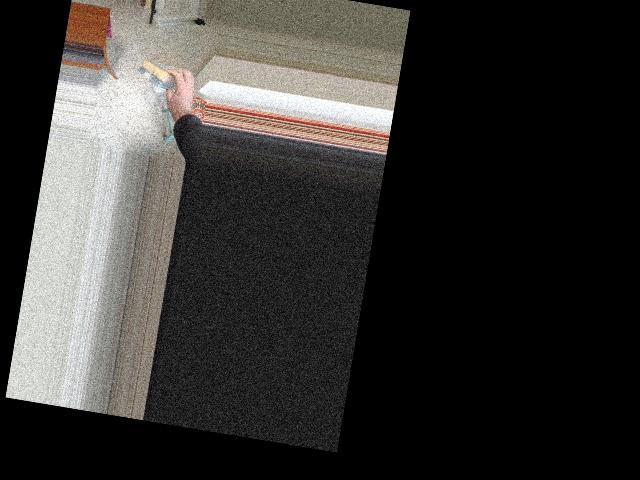cheese: (132, 58, 197, 95)
